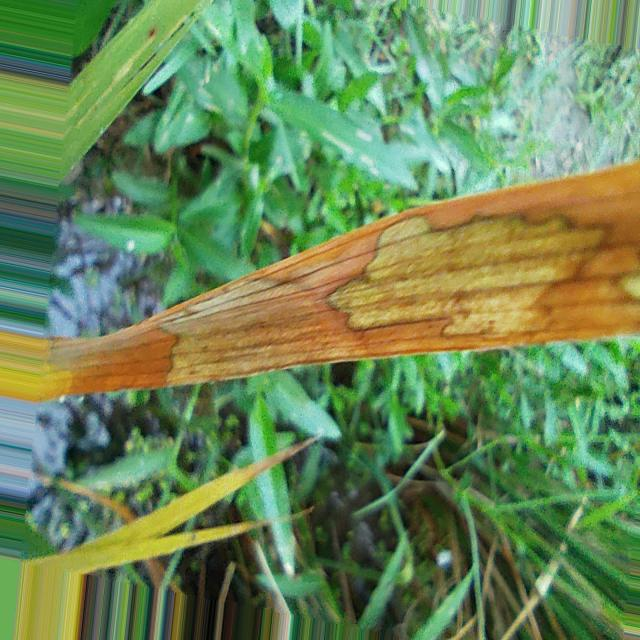Brown_Spot: (148, 27, 156, 37)
Leaf_Blast: (34, 438, 314, 573)
Rice False Smut: (156, 162, 640, 385), (329, 217, 640, 335)
